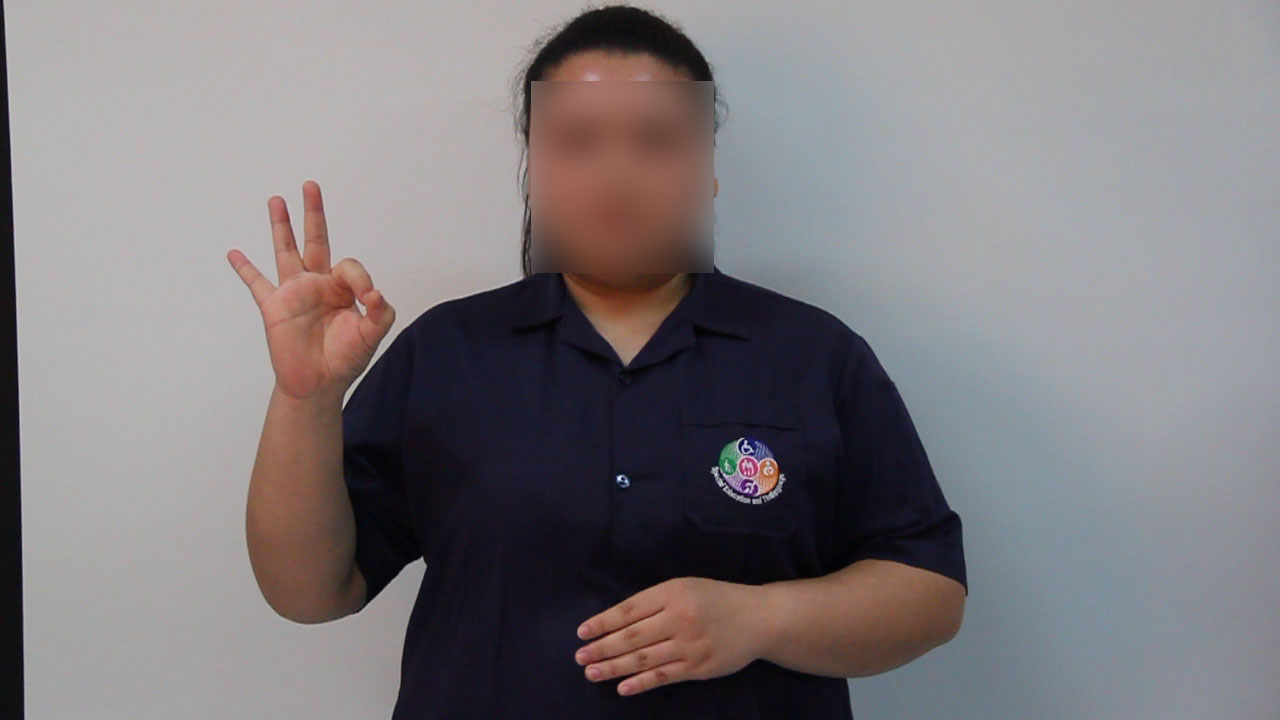for: (217, 166, 402, 410)
